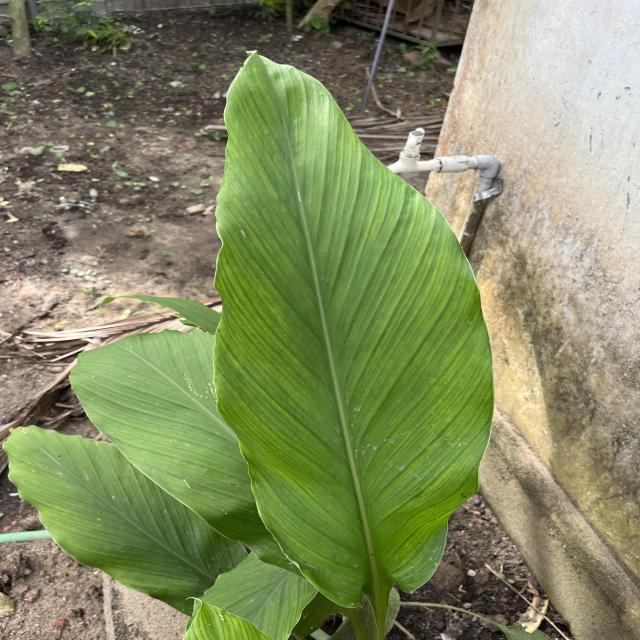Curcuma longa: (204, 44, 499, 613)
